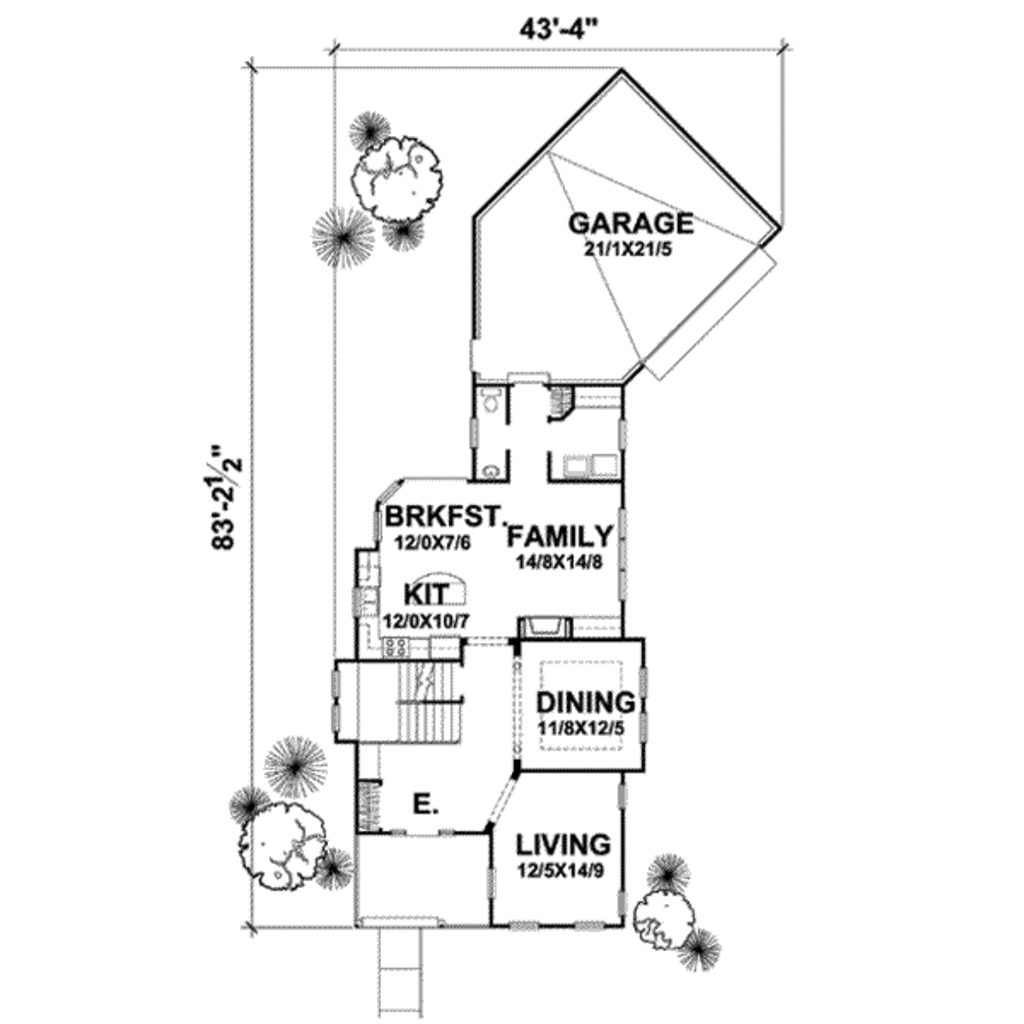large_sink: (476, 381, 500, 419)
stairs: (333, 653, 459, 745)
windows: (502, 913, 609, 939), (608, 503, 633, 604), (367, 480, 403, 550), (636, 668, 655, 751)
